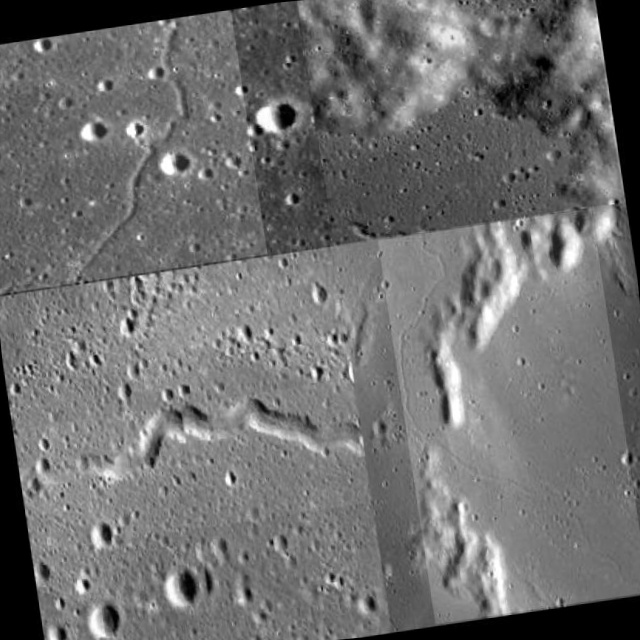crater: (385, 235, 621, 634), (327, 0, 634, 247), (0, 2, 274, 263), (6, 382, 353, 524)
